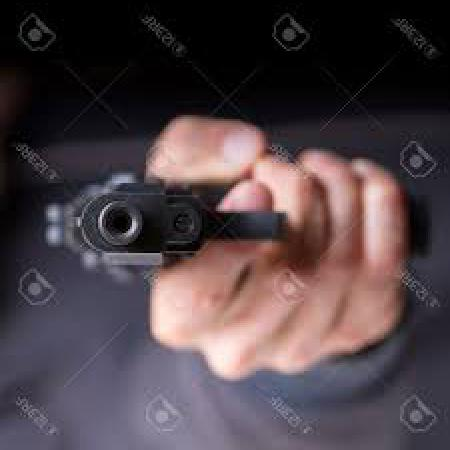Pistol: (36, 176, 446, 274)
